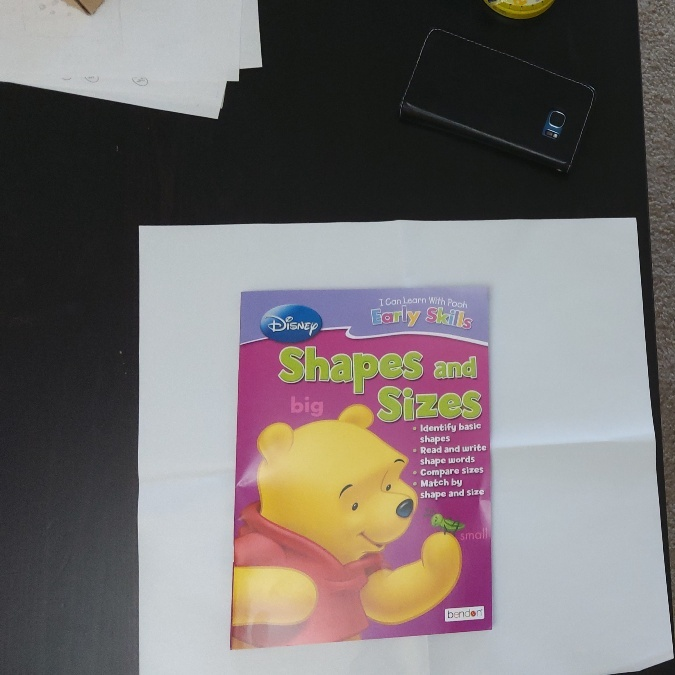book: (241, 290, 488, 639)
